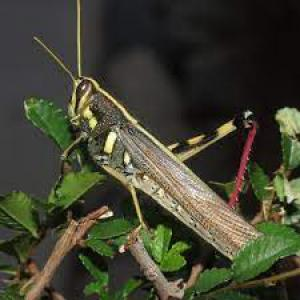locust: (52, 26, 249, 272)
